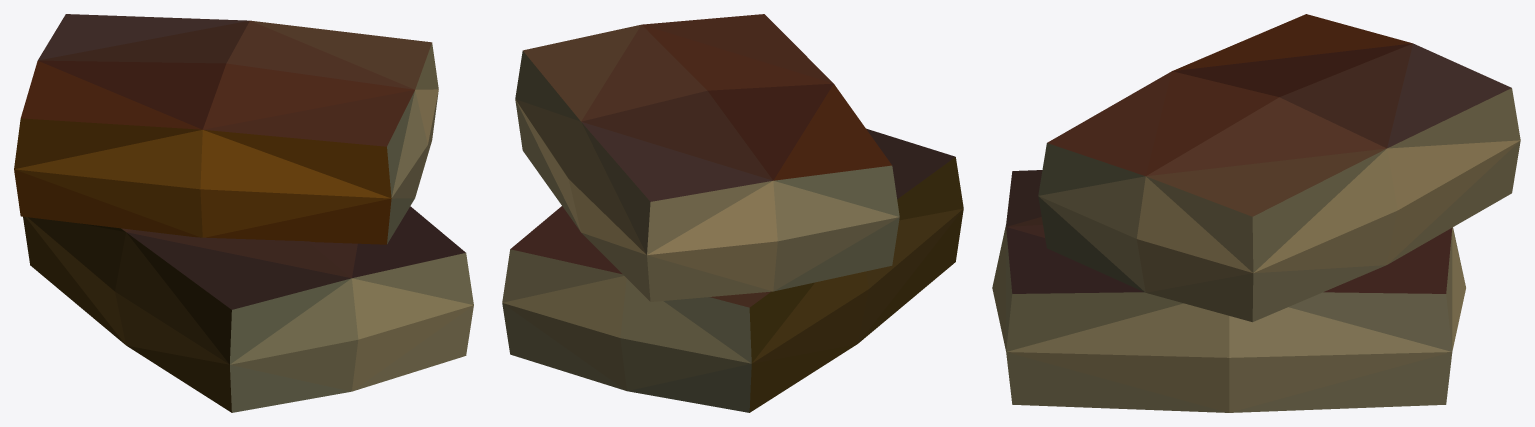
Rendered from prop_literature_book_pile_2.fbx.
3 renders of one model, left to right at view 1: azimuth 30°, elevation 25°; view 2: azimuth 150°, elevation 25°; view 3: azimuth 270°, elevation 25°, orthographic. The views are drawn at different scales.
Parts seen in each view (by area): view 1: prop_literature_book_pile_2; view 2: prop_literature_book_pile_2; view 3: prop_literature_book_pile_2.
Boxes of the visible parts, bbox=[...] form: prop_literature_book_pile_2: bbox=[14, 14, 473, 412]; prop_literature_book_pile_2: bbox=[502, 14, 963, 412]; prop_literature_book_pile_2: bbox=[992, 14, 1520, 412].
Bounding box in the file's own units: 0.8095 × 0.476 × 0.8602.
